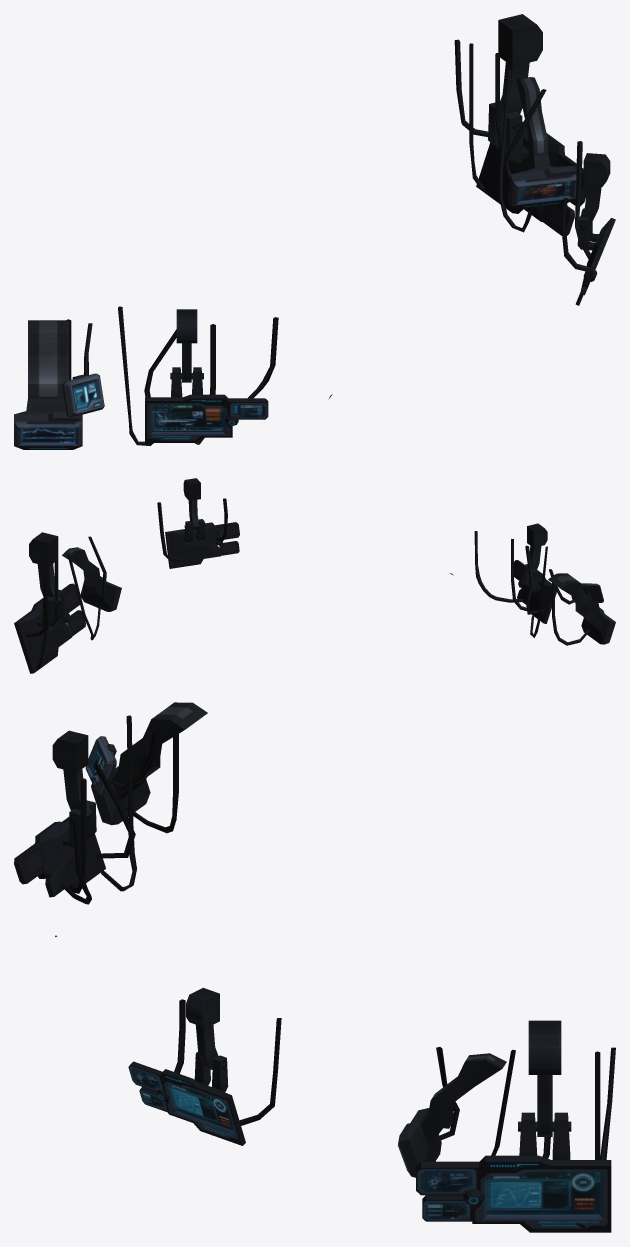
File: ts_mrt_dn001.FBX
3 views of the same model, one above another, from view 1: azimuth 30°, elevation 25°; view 2: azimuth 150°, elevation 25°; view 3: azimuth 270°, elevation 25° (orthographic). The views are drawn at different scales.
Parts seen in each view (by area): view 1: ts_mrt_dn001, ts_mrt_dn003, ts_mrt_dn002; view 2: ts_mrt_dn001, ts_mrt_dn003; view 3: ts_mrt_dn001, ts_mrt_dn002, ts_mrt_dn003.
Part boxes in pixels (x1=…): ts_mrt_dn001: x1=14, y1=14, x2=615, y2=449; ts_mrt_dn003: x1=65, y1=39, x2=590, y2=445; ts_mrt_dn002: x1=18, y1=180, x2=605, y2=445; ts_mrt_dn001: x1=14, y1=478, x2=615, y2=673; ts_mrt_dn003: x1=25, y1=498, x2=589, y2=669; ts_mrt_dn001: x1=14, y1=702, x2=611, y2=1232; ts_mrt_dn002: x1=86, y1=741, x2=603, y2=1219; ts_mrt_dn003: x1=62, y1=715, x2=615, y2=1228.
Bounding box in the file's own units: 7.56 × 1.89 × 4.94.
